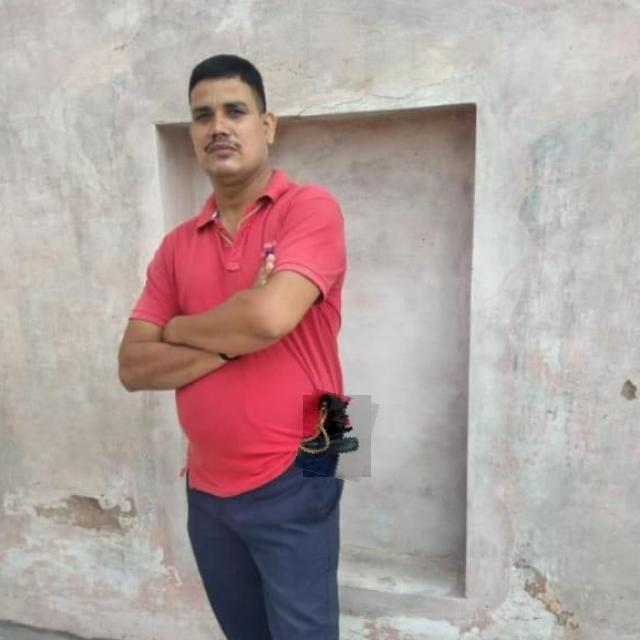handgun: (298, 392, 376, 481)
